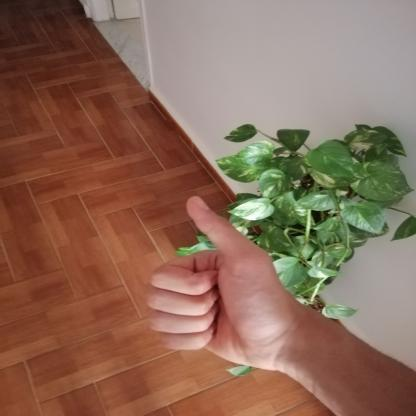ALIF: (118, 178, 312, 384)
